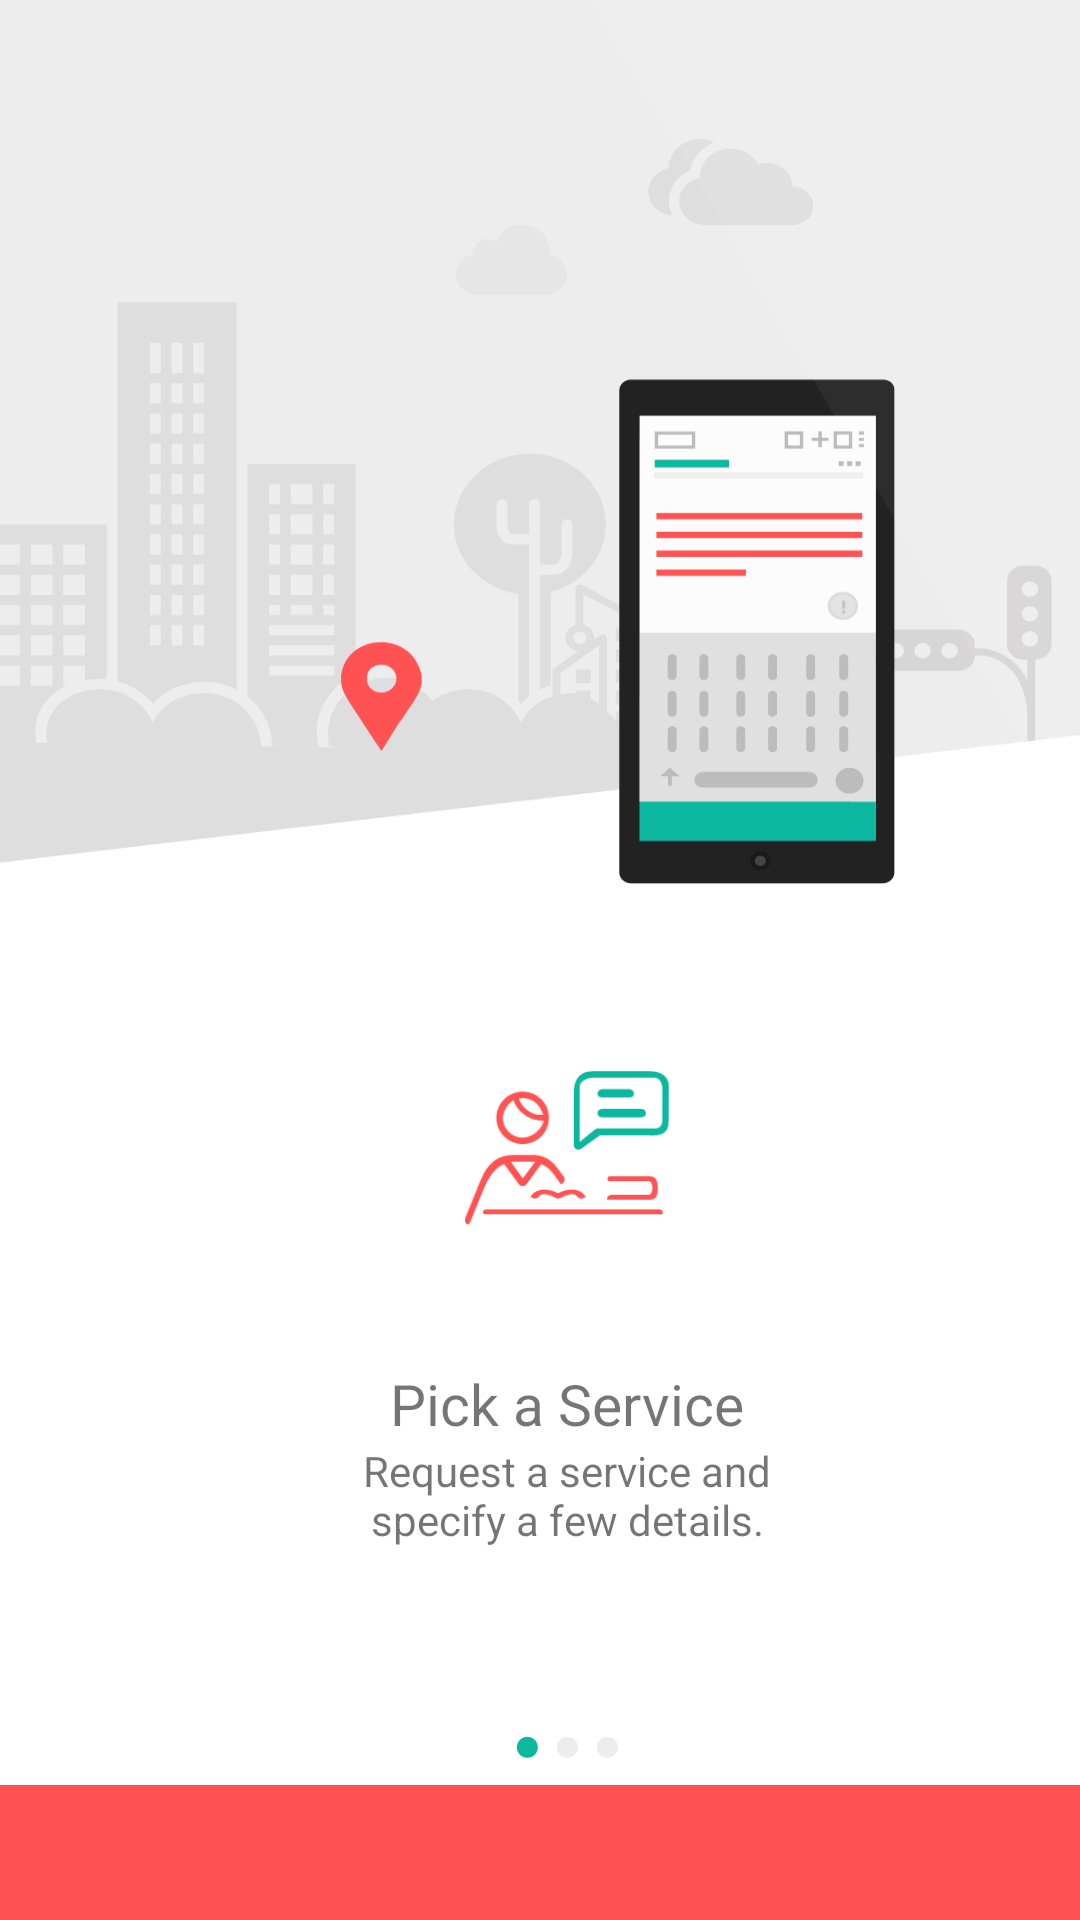

Icons on this 1080w x 1920h Android screen, each with the point to tap as point (x, y):
pickservice: point (567, 1148)
